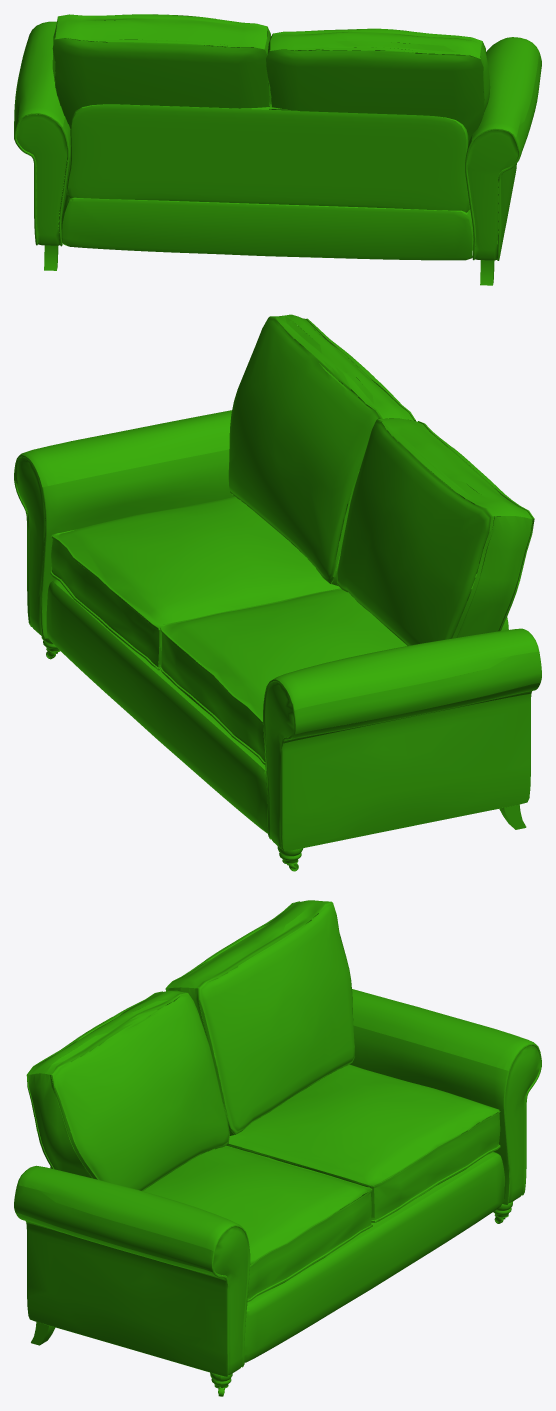
Rendered from testsofa50PC.FBX.
3 renders of one model, top to bottom at view 1: azimuth 30°, elevation 25°; view 2: azimuth 150°, elevation 25°; view 3: azimuth 270°, elevation 25°, orthographic. The views are drawn at different scales.
Parts seen in each view (by area): view 1: çàäíèê001, îñíîâàíèå001, Ñïèíêà_003, Ñïèíêà_004, ïîäëîêîòíè.ïîäëîêîòí001, ïîäëîêîòíè001, íîæêà_çàä_001, íîæêà_çàä_.íîæêà_çàä001; view 2: ïîäëîêîòíè001, Ñïèíêà_003, Ñïèíêà_004, ñåäóøêà_004, ïîäëîêîòíè.ïîäëîêîòí001, ñåäóøêà_003, îñíîâàíèå001; view 3: ïîäëîêîòíè.ïîäëîêîòí001, Ñïèíêà_004, Ñïèíêà_003, ñåäóøêà_003, ñåäóøêà_004, ïîäëîêîòíè001, îñíîâàíèå001.
Part boxes in pixels (box(x1,y1,x2,y2)): çàäíèê001: box(67, 102, 471, 212); îñíîâàíèå001: box(61, 190, 476, 260); Ñïèíêà_003: box(52, 14, 271, 129); Ñïèíêà_004: box(266, 28, 490, 141); ïîäëîêîòíè.ïîäëîêîòí001: box(465, 37, 541, 260); ïîäëîêîòíè001: box(14, 21, 70, 246); íîæêà_çàä_001: box(480, 260, 494, 285); íîæêà_çàä_.íîæêà_çàä001: box(44, 245, 58, 270); ïîäëîêîòíè001: box(263, 628, 541, 851); Ñïèíêà_003: box(337, 418, 534, 645); Ñïèíêà_004: box(228, 314, 415, 585); ñåäóøêà_004: box(50, 496, 340, 670); ïîäëîêîòíè.ïîäëîêîòí001: box(14, 410, 234, 638); ñåäóøêà_003: box(159, 588, 406, 764); îñíîâàíèå001: box(46, 577, 267, 833); ïîäëîêîòíè.ïîäëîêîòí001: box(14, 1165, 250, 1376); Ñïèíêà_004: box(26, 990, 229, 1190); Ñïèíêà_003: box(165, 900, 355, 1135); ñåäóøêà_003: box(226, 1064, 500, 1222); ñåäóøêà_004: box(143, 1145, 372, 1302); ïîäëîêîòíè001: box(349, 989, 541, 1204); îñíîâàíèå001: box(244, 1146, 505, 1362).
Bounding box in the file's own units: 78.22 × 39.16 × 67.37.
